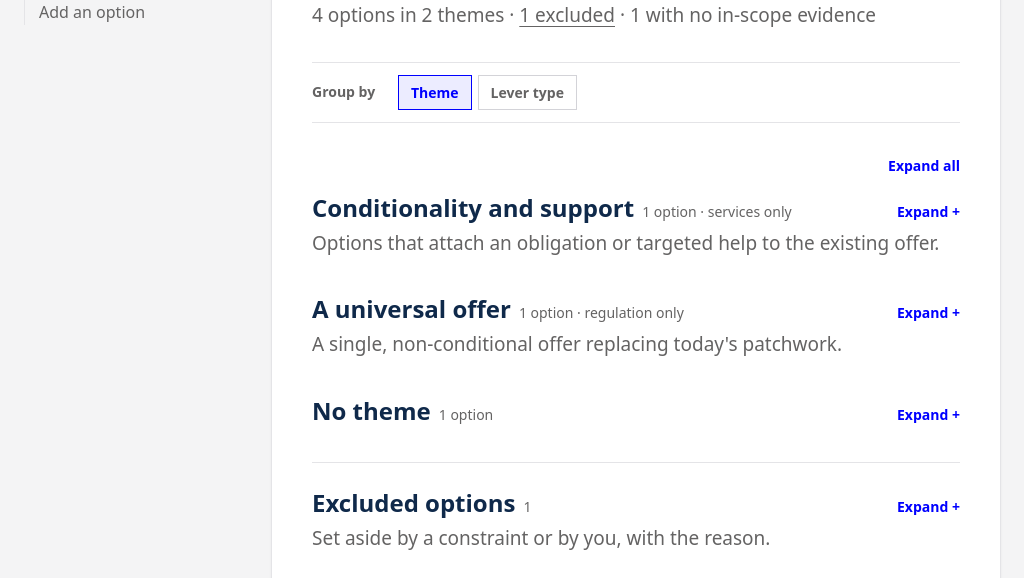
Test case: LonglistView › groups by lever type, with the theme on each row, and offers no ambition grouping
Click the button "Lever type" at [527, 92], box [478,74,577,110]
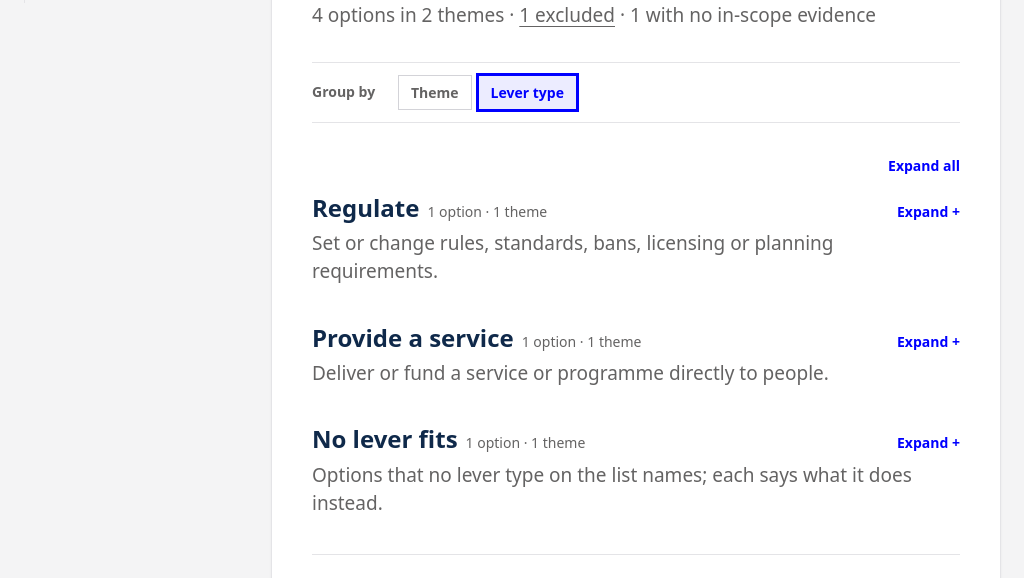
Check: the button "Provide a service1 option · 1 theme Expand +" is shown, box [312,322,960,353]
Check: the text "Deliver or fund a service or programme directly to people." is shown, box [312,360,829,386]
Click the button "Expand all" at [924, 165], box [888,154,960,176]
(page scrolled)
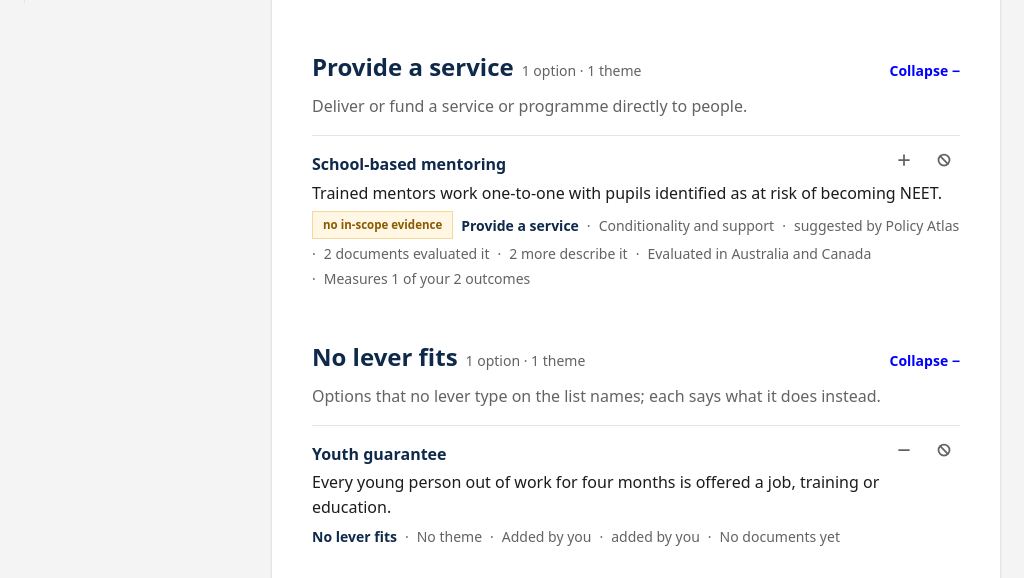
Check: the text "Conditionality and support" is shown, box [599,215,774,236]
